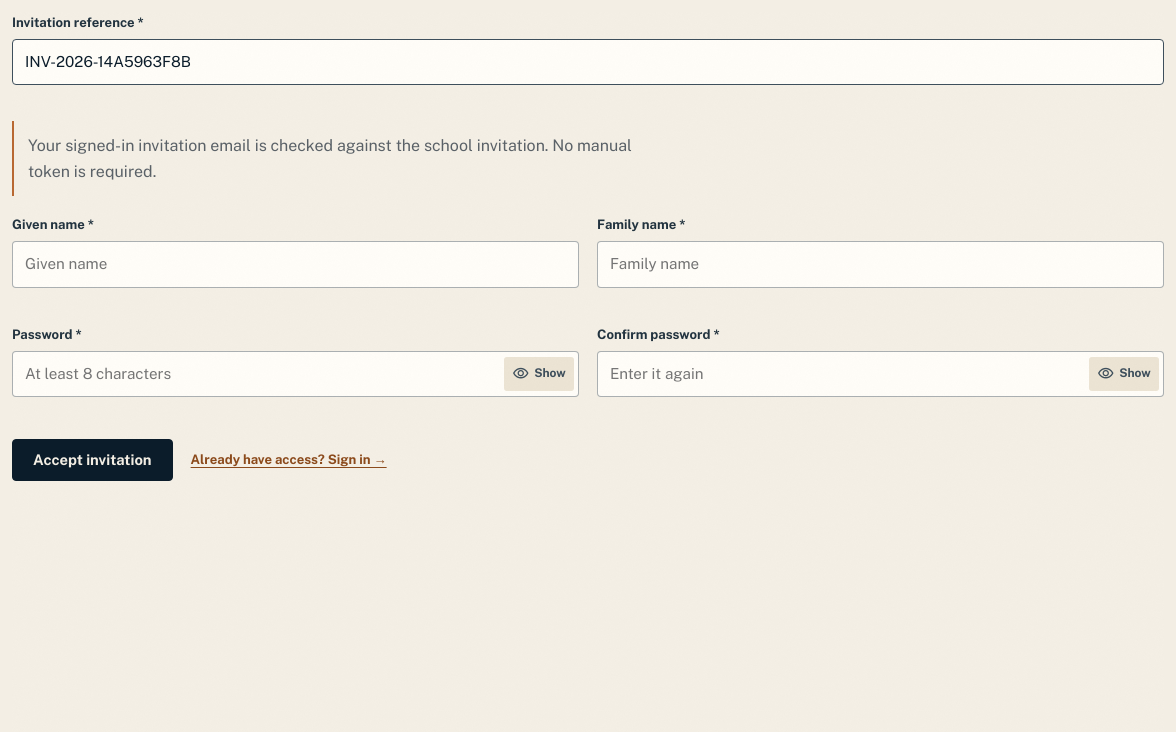
Test: StaffInvitationForm › shows a field error for a provider-rejected weak password
Type "New" into the field labelled "Given name *" at (296, 265), box [12, 242, 579, 288]
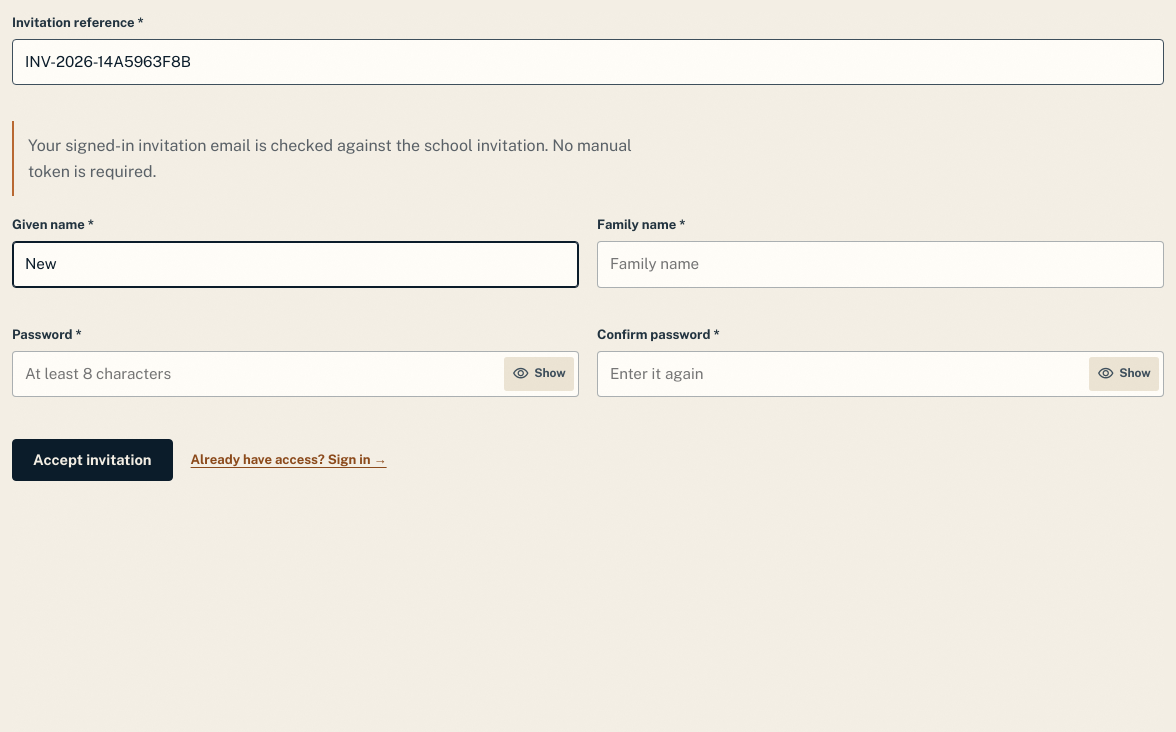
Type "Teacher" into the field labelled "Family name *" at (880, 265), box [597, 242, 1164, 288]
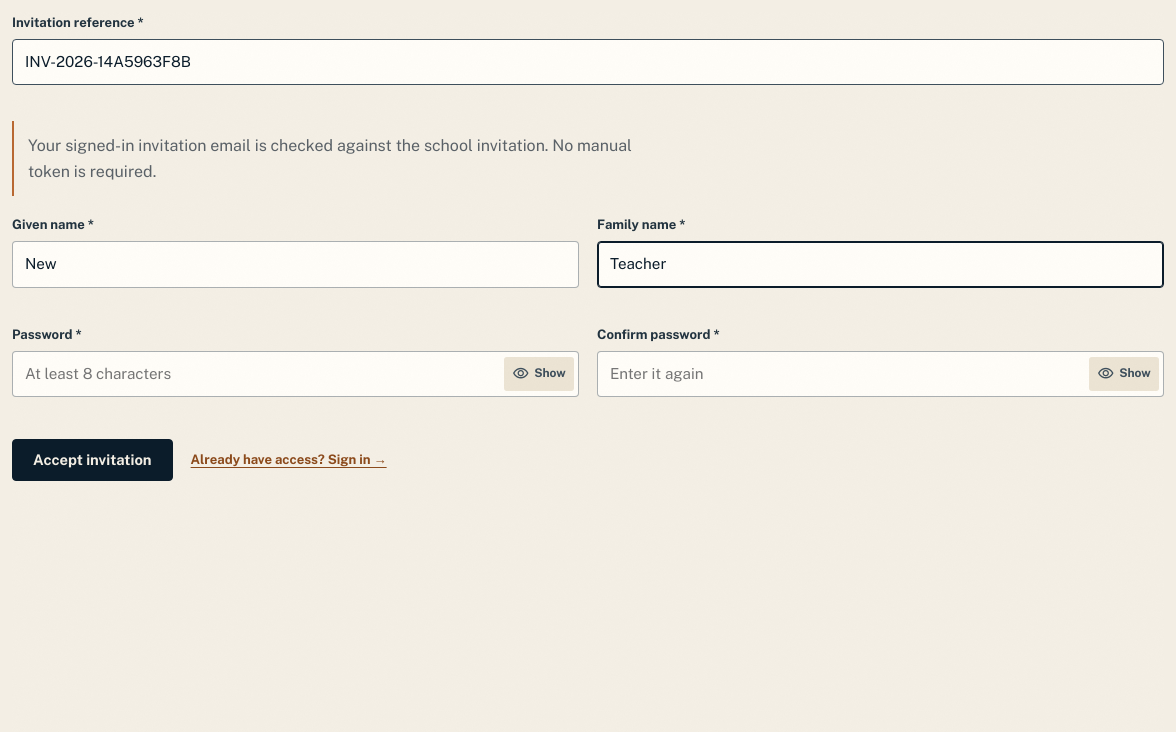
Type "SecurePass9" into the password field labelled "Password *" at (296, 374), box [12, 351, 579, 397]
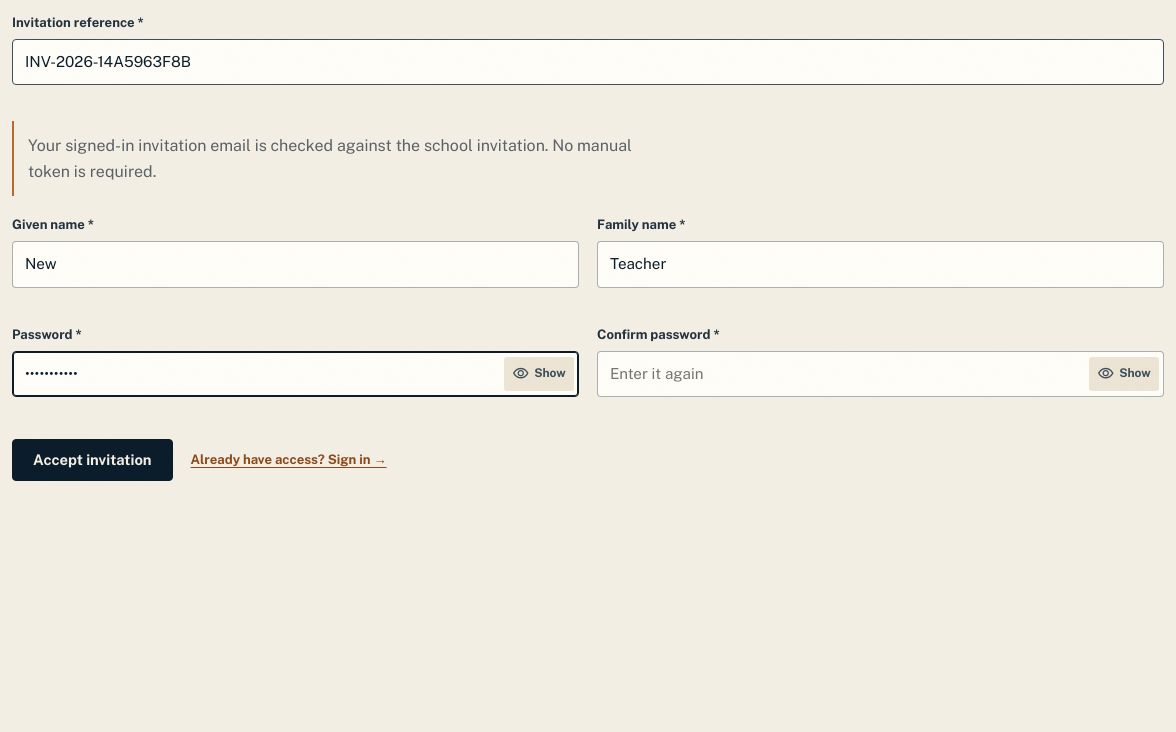
Type "SecurePass9" into the password field labelled "Confirm password *" at (880, 374), box [597, 351, 1164, 397]
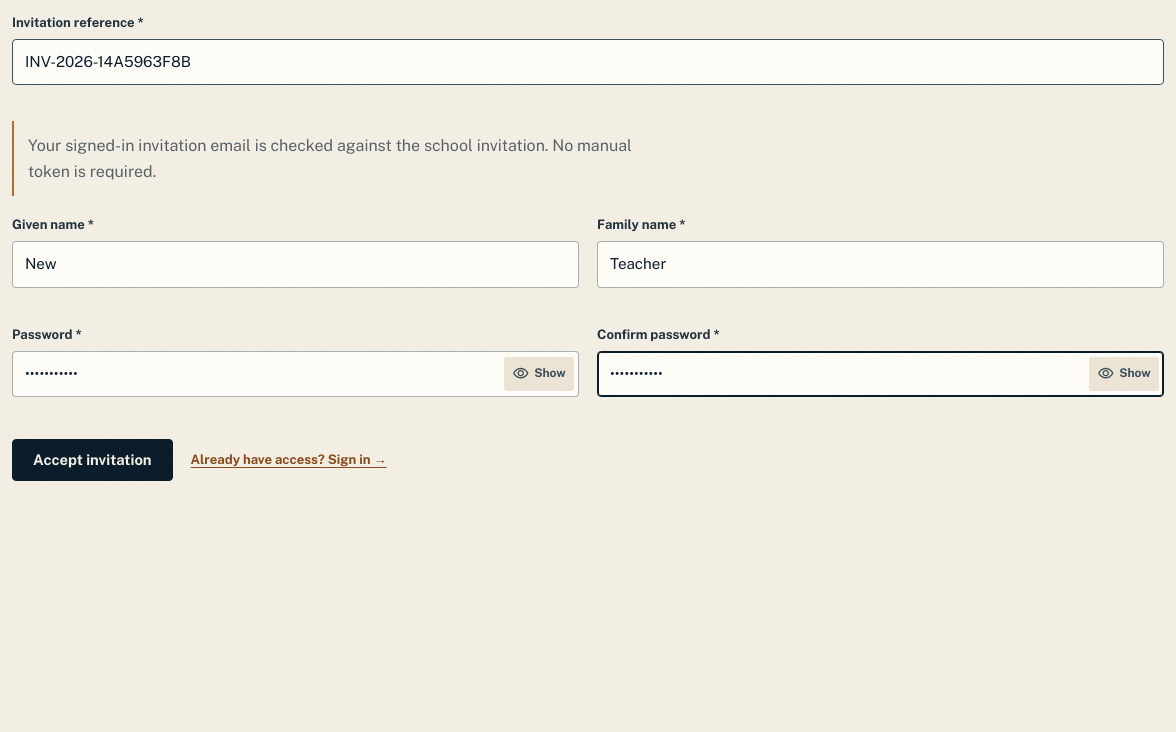
Click the button "Accept invitation" at (92, 460), box [12, 439, 173, 481]
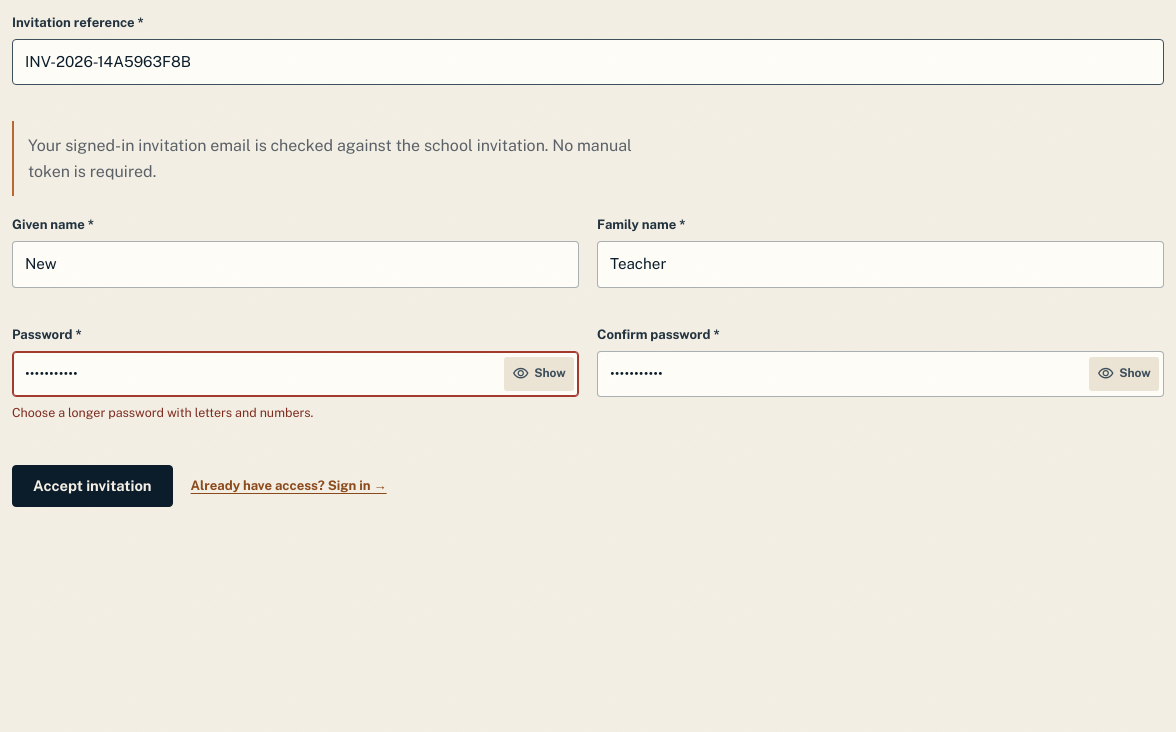
Expected: the text "Choose a longer password with letters and numbers." is shown, [12, 405, 313, 420]
